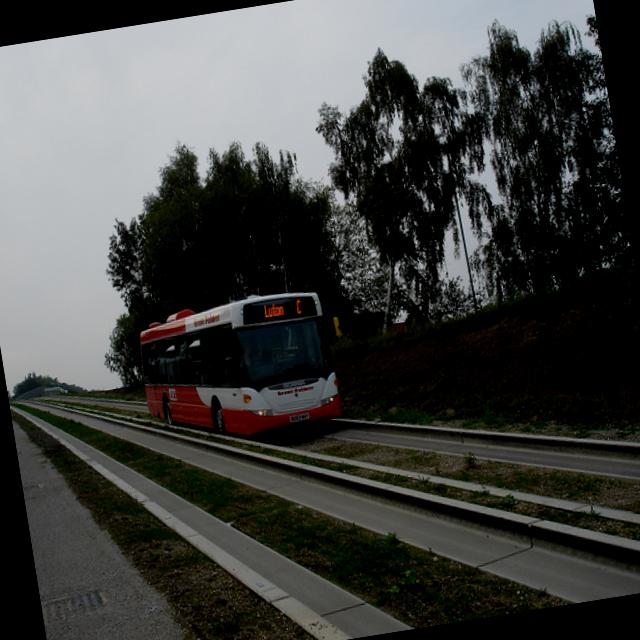Vehicle: (130, 284, 345, 450)
